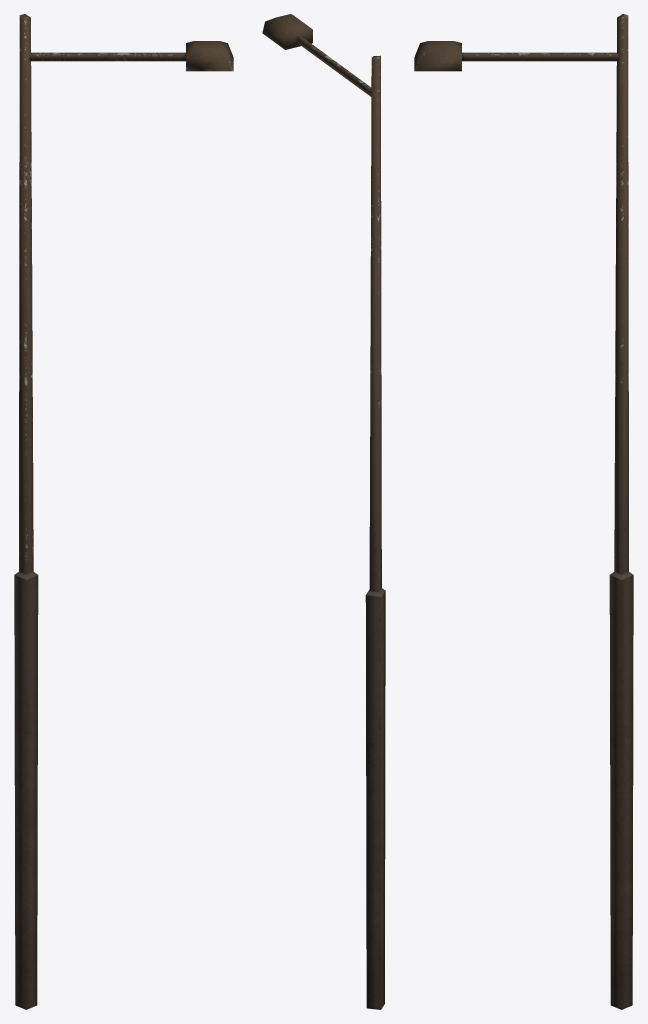
File: jctlowStreetLightA.fbx
The picture shows the model from 3 angles, left to right: view 1: azimuth 90°, elevation 25°; view 2: azimuth 210°, elevation 25°; view 3: azimuth 270°, elevation 25°; orthographic projection. The views are drawn at different scales.
Visible parts, largest first — view 1: jctlowStreetLightA; view 2: jctlowStreetLightA; view 3: jctlowStreetLightA.
Part boxes in pixels (x1,y1,x2,y2): jctlowStreetLightA: (14,14,233,1009); jctlowStreetLightA: (262,14,385,1009); jctlowStreetLightA: (414,14,633,1009).
Size of the model in its own units: 28 by 915 by 184.
1 material, 1 textured.
